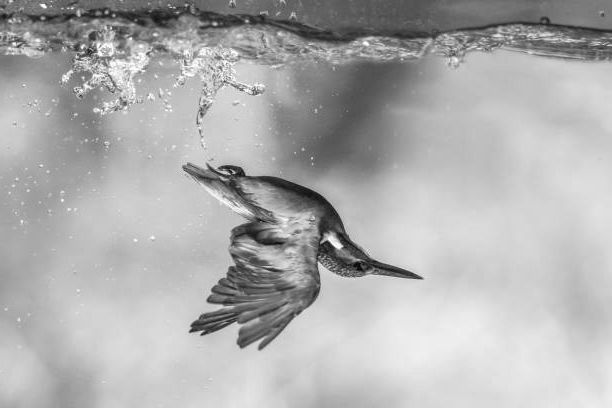Bird: (178, 156, 426, 351)
